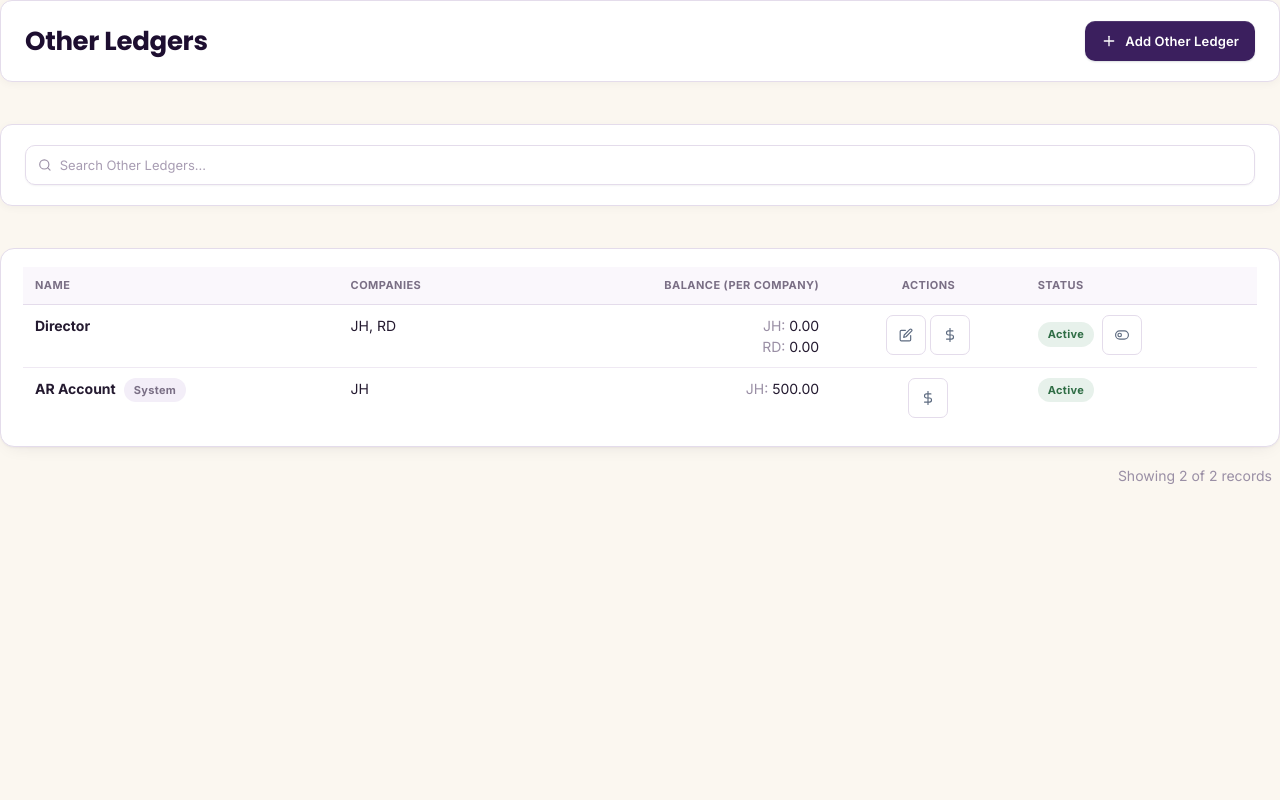
Test: OtherLedgerManagement - Opening Balance › submits company_id, date and amount to the ledger-specific endpoint
The width and height of the screenshot is (1280, 800).
Expected: the text "Director" is shown, [35,316,90,334]
Click the button titled "Set Opening Balance" in the row of "Director". click: coordinates (950, 334)
box: [930,314,970,354]
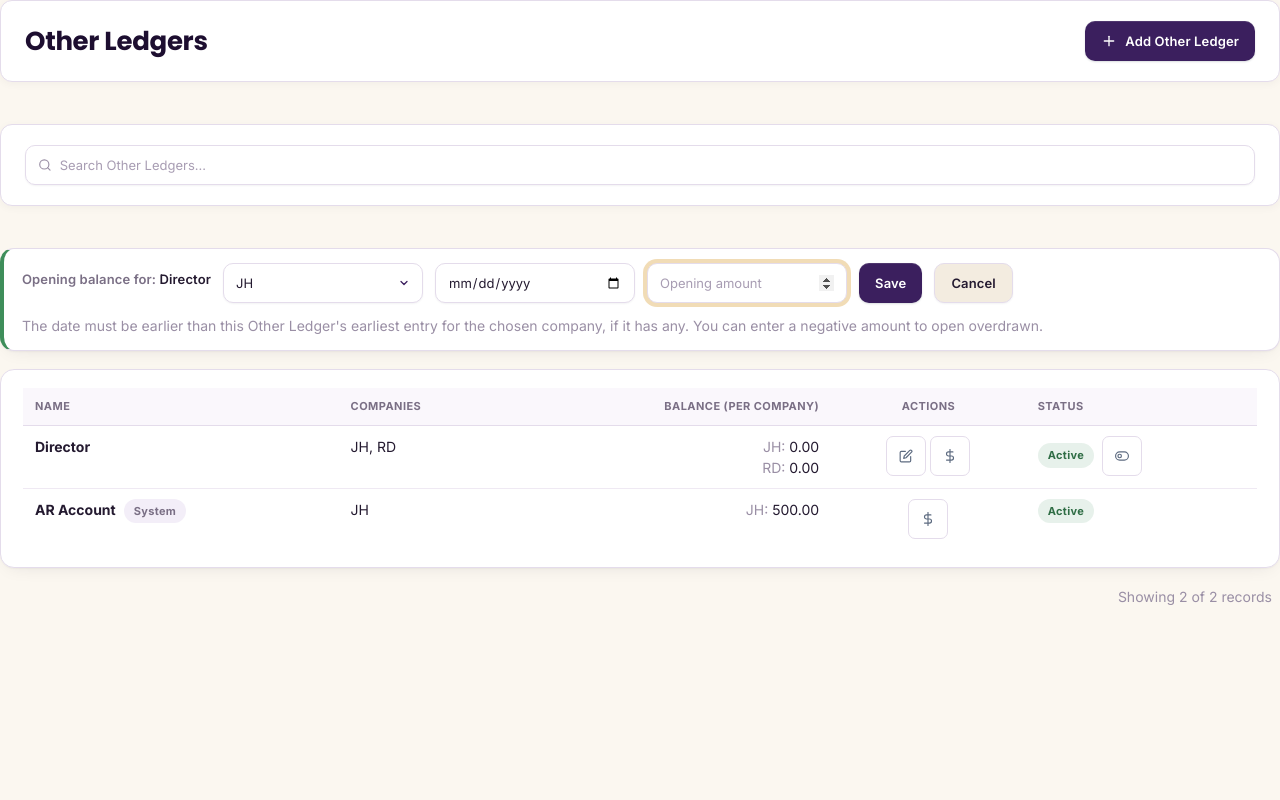
Result: the text "Opening balance for: Director" is shown at [22,270,211,290]
Select "RD" in the dropdown. click: coordinates (323, 283)
box: [223,263,423,303]
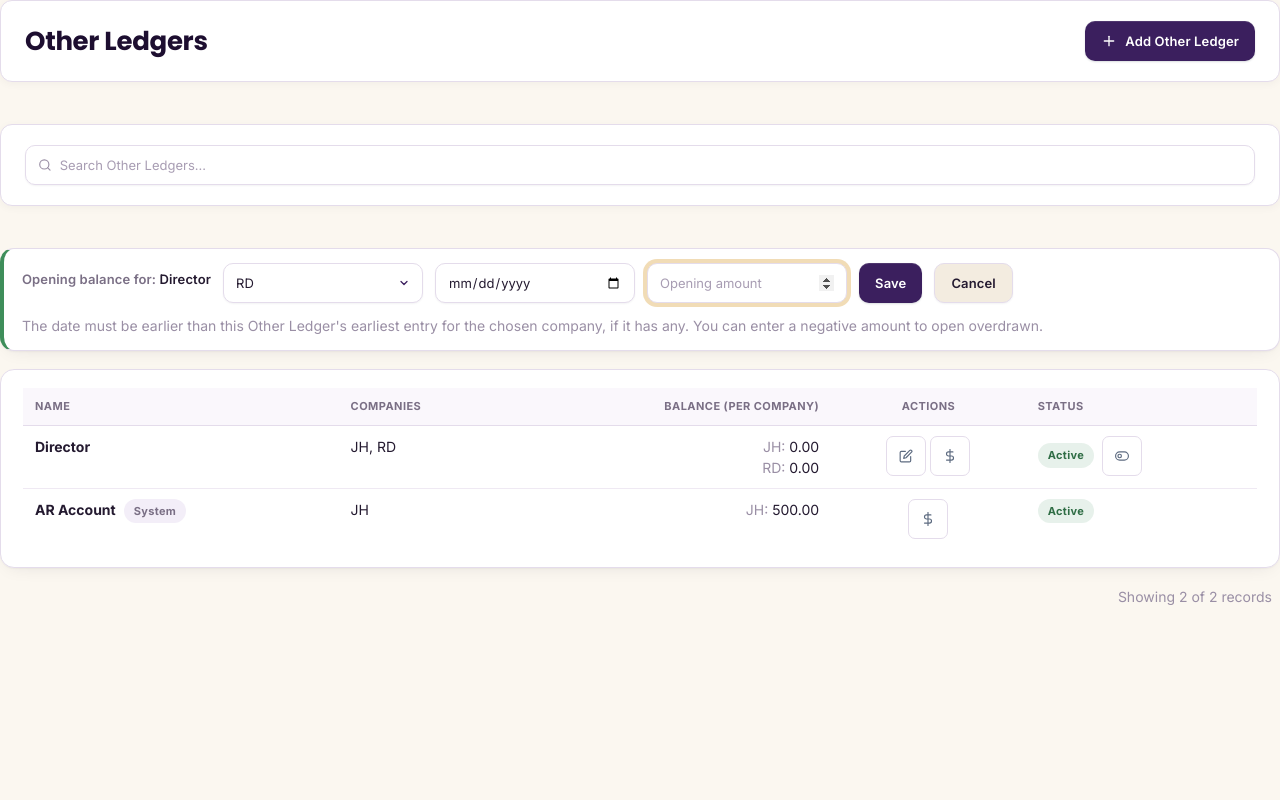
Type "2026-01-01" into the date field named "Opening balance date". click: coordinates (535, 283)
box: [435,263,635,303]
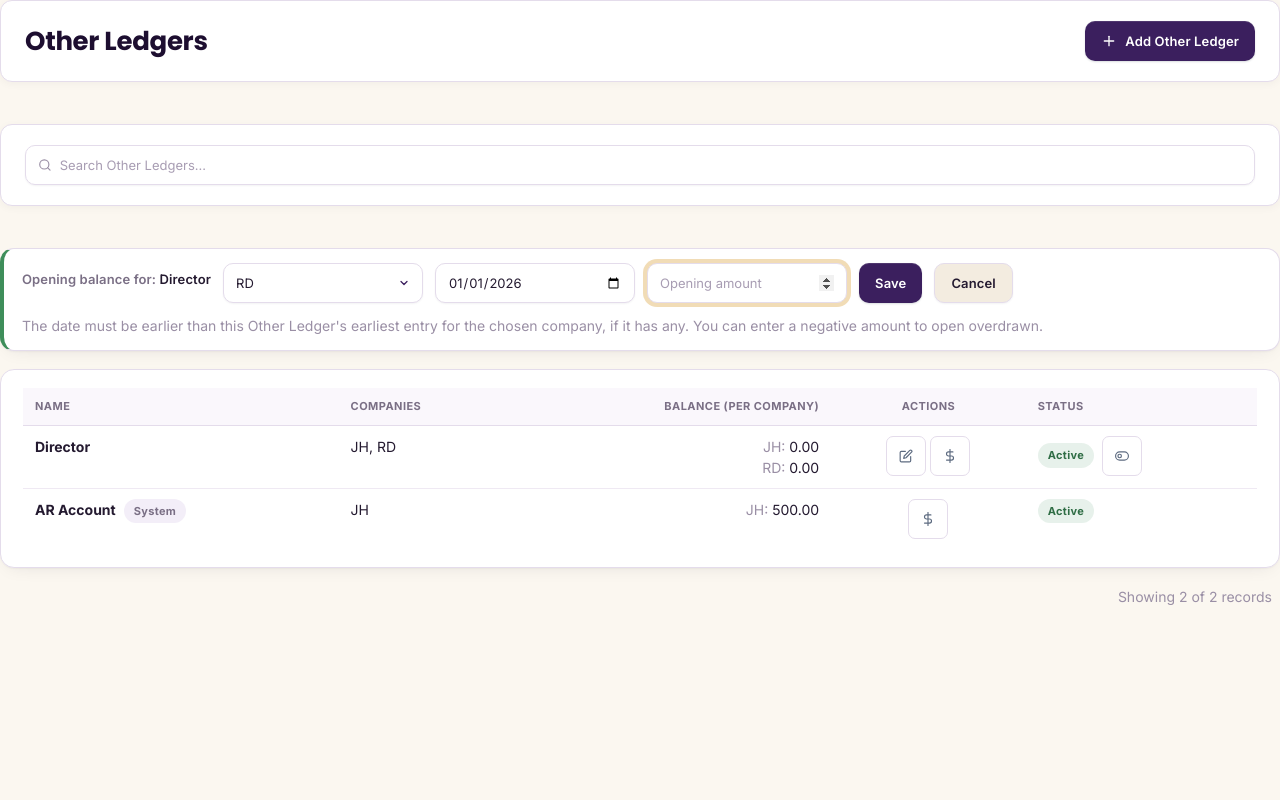
Type "5000" into the number field with placeholder "Opening amount". click: coordinates (747, 283)
box: [647,263,847,303]
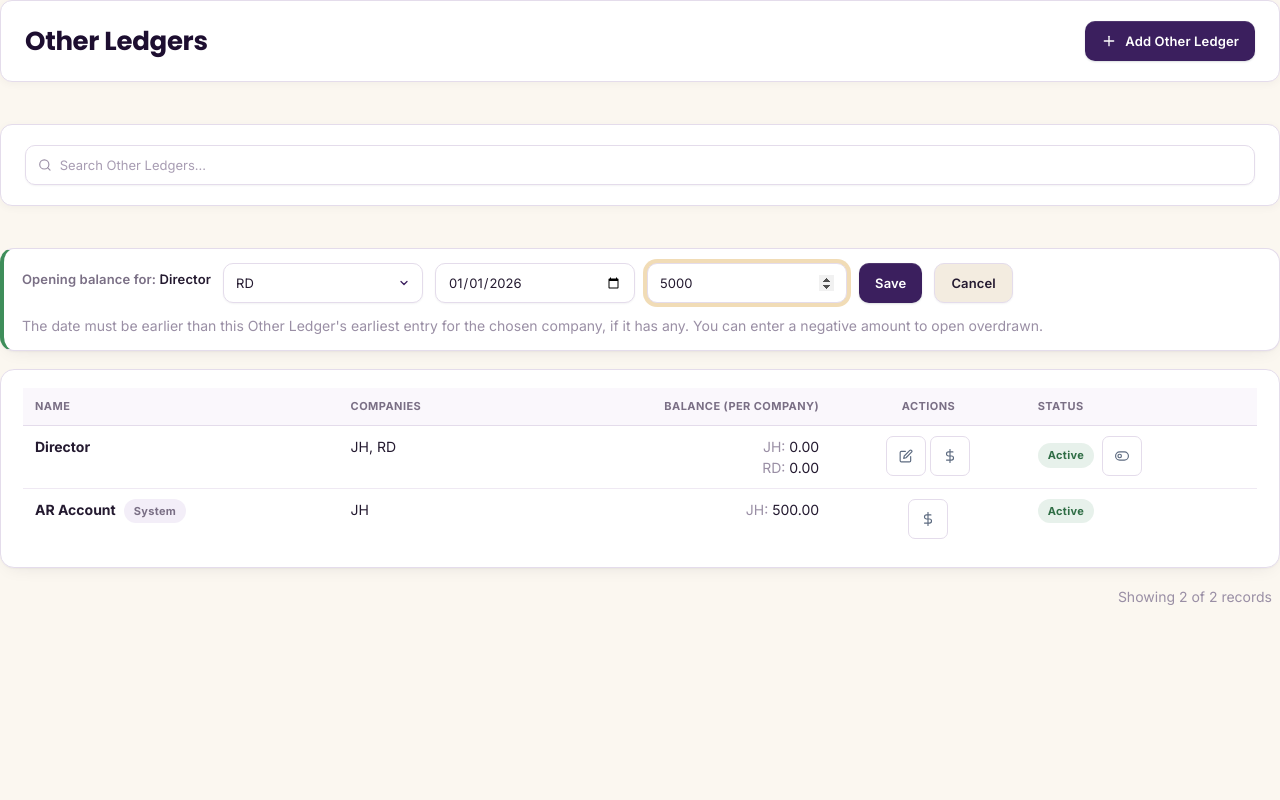
Click the button "Save". click: coordinates (891, 283)
box: [859,263,922,303]
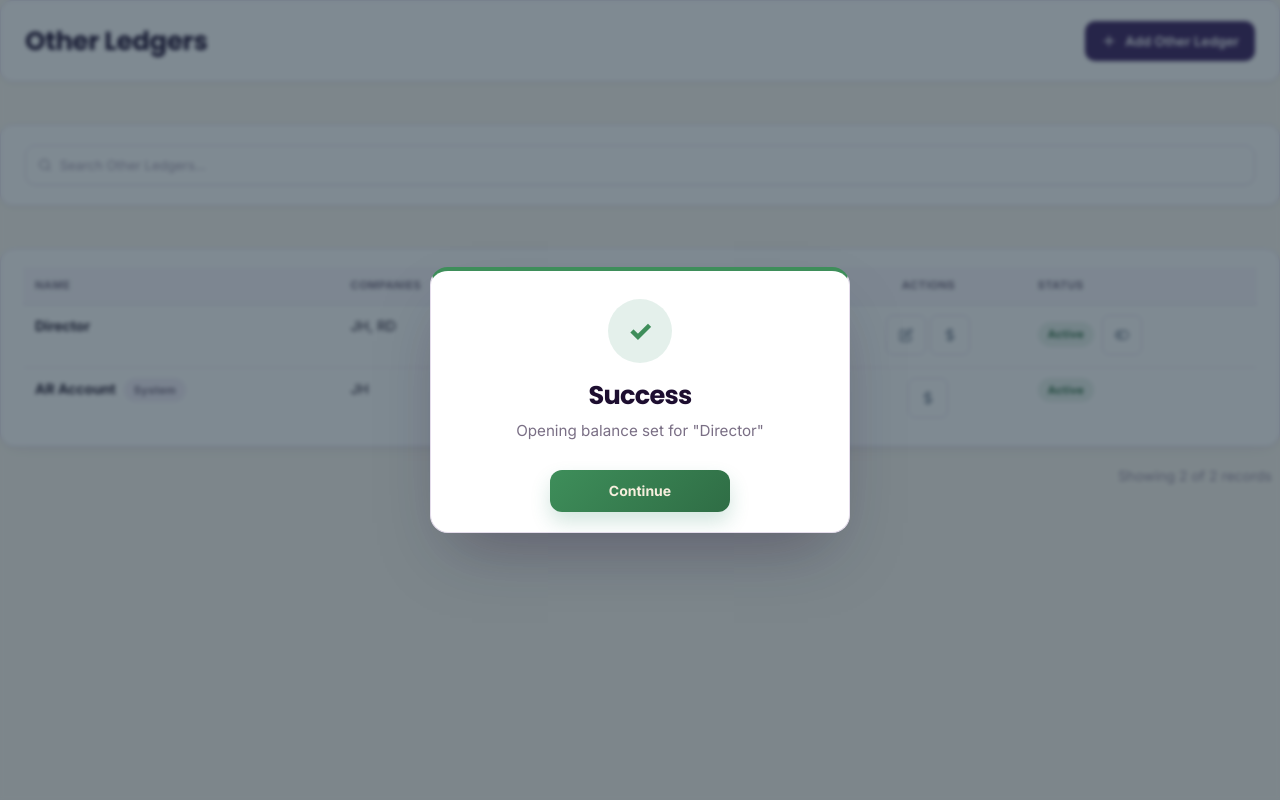
Result: the text "Opening balance set for \"Director\"" is shown at [516,421,764,440]
